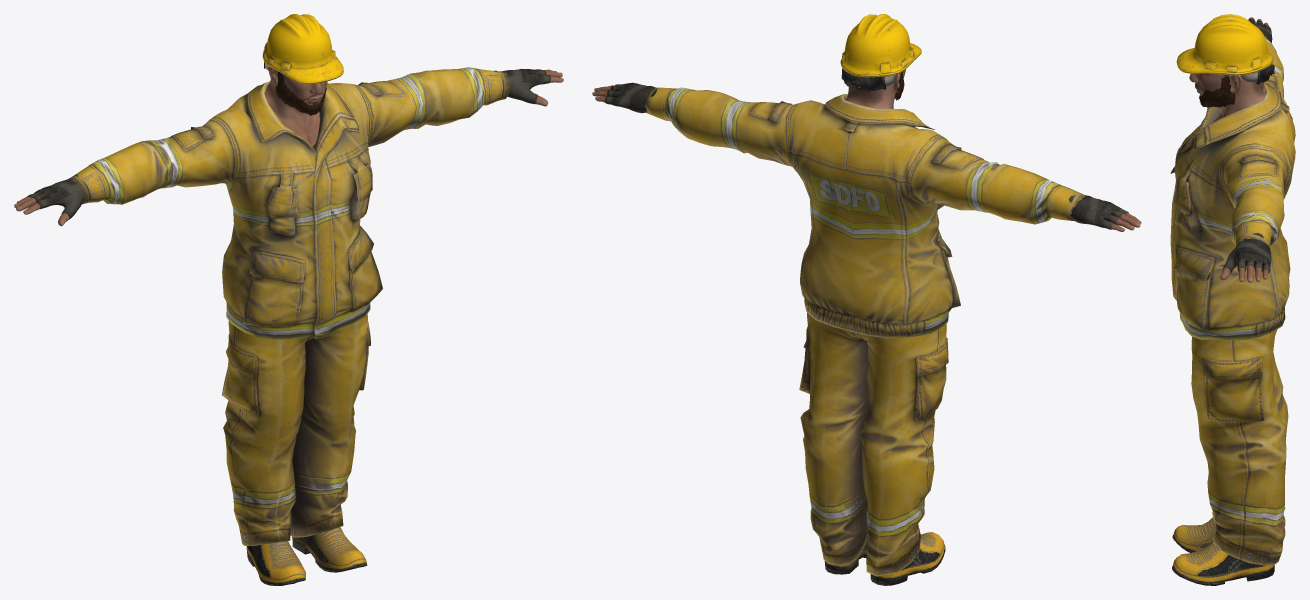
File: Man.obj
3 views of the same model, side by side, from view 1: azimuth 30°, elevation 25°; view 2: azimuth 150°, elevation 25°; view 3: azimuth 270°, elevation 25° (orthographic).
Parts seen in each view (by area): view 1: Tops, Bottoms, Hats, Shoes, Body, Gloves, Beards; view 2: Tops, Bottoms, Hats, Gloves, Shoes, Body; view 3: Tops, Bottoms, Hats, Shoes, Body, Gloves, Beards.
Boxes of the visible parts, x1,y1,x2,y2 form: Tops: (69, 67, 509, 340); Bottoms: (222, 314, 370, 546); Hats: (262, 14, 343, 84); Shoes: (246, 526, 367, 585); Body: (14, 66, 563, 226); Gloves: (27, 68, 550, 219); Beards: (275, 71, 326, 115); Tops: (644, 87, 1084, 338); Bottoms: (799, 312, 948, 576); Hats: (840, 14, 921, 91); Gloves: (604, 82, 1128, 229); Shoes: (824, 532, 945, 585); Body: (592, 69, 1141, 231); Tops: (1170, 35, 1295, 340); Bottoms: (1191, 329, 1288, 565); Hats: (1176, 14, 1274, 84); Shoes: (1172, 517, 1274, 585); Body: (1189, 17, 1268, 282); Gloves: (1223, 19, 1272, 273); Beards: (1199, 75, 1235, 107).
Size of the model in its own units: 194 by 186 by 38.64.
Materials: 7 (7 with a texture image).
